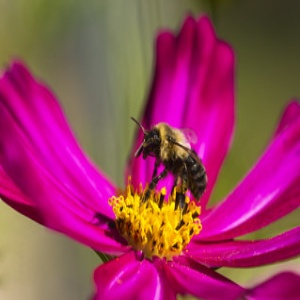bee: (128, 115, 209, 212)
